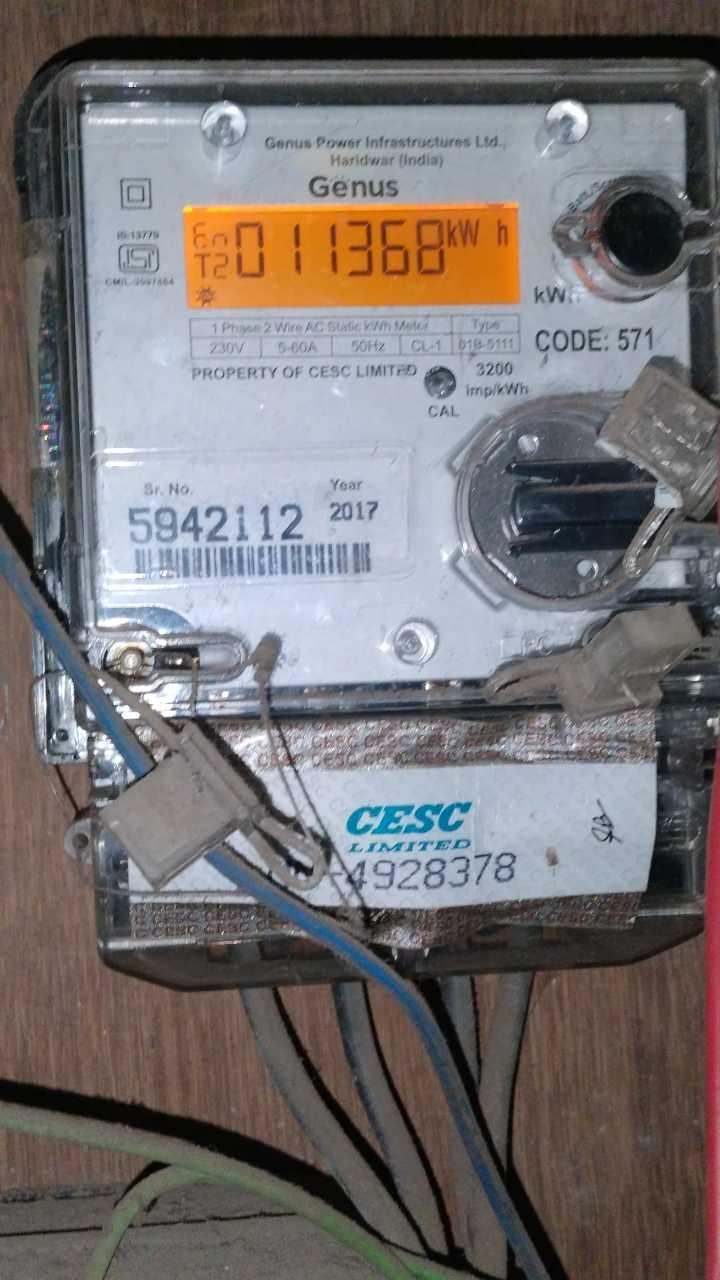meter_readings: (232, 212, 445, 283)
serial_number: (129, 501, 309, 545)
